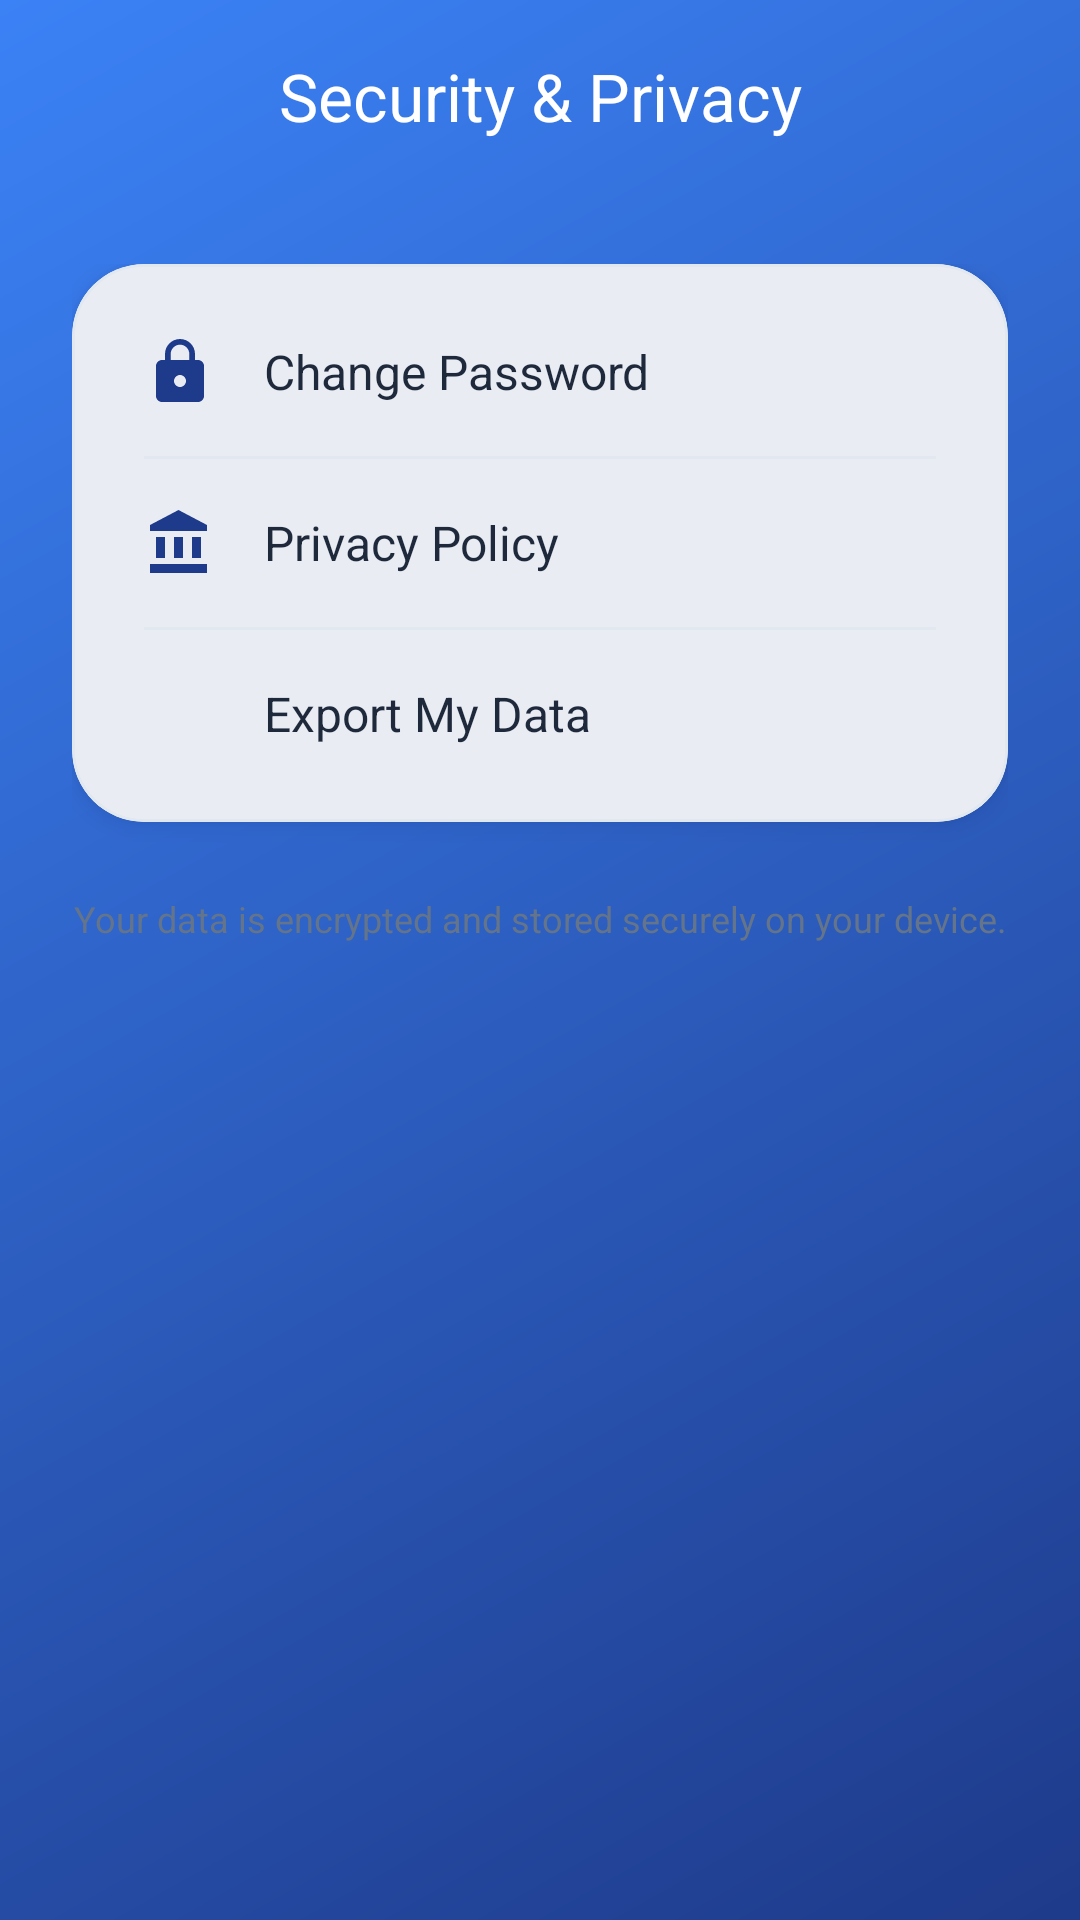

Icon click points for this 1080px x 1920px phone screenshot, format (x,y):
bank: (178,541)
lock: (180,370)
